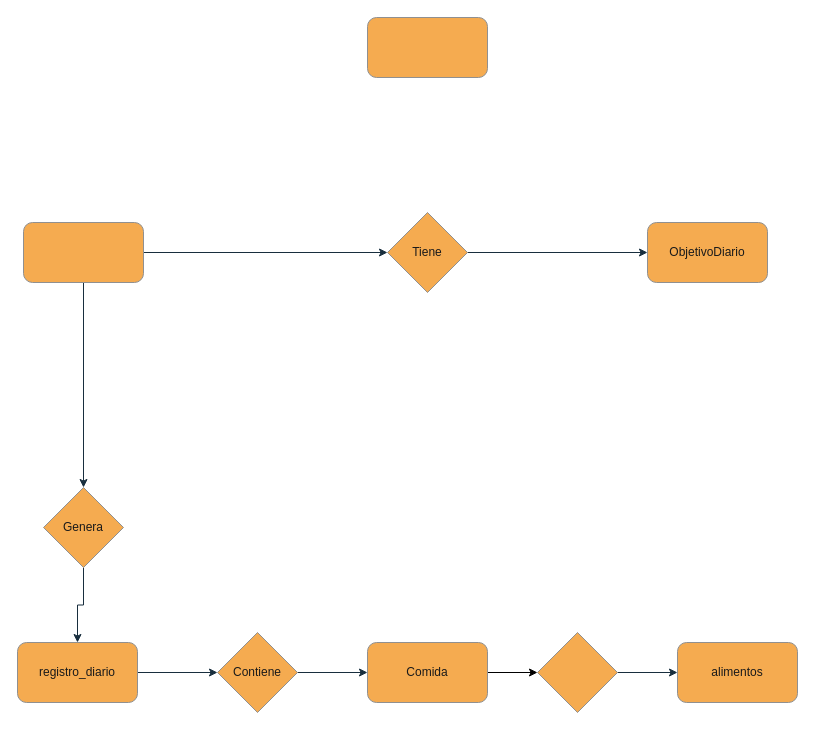
This 815x730 diagram has some shape labels left out. Each missing label, with the centre of its shape:
"Dieta" belongs at pixel 427 47.
"se compone" belongs at pixel 577 672.
"usuario" belongs at pixel 83 252.
